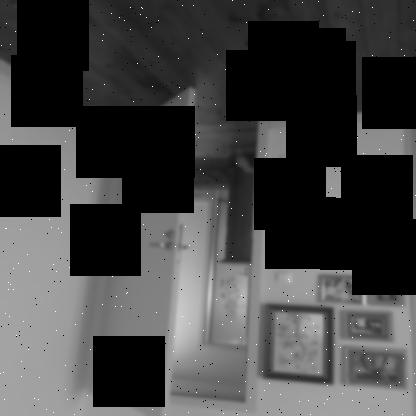Porte: (85, 85, 273, 415)
